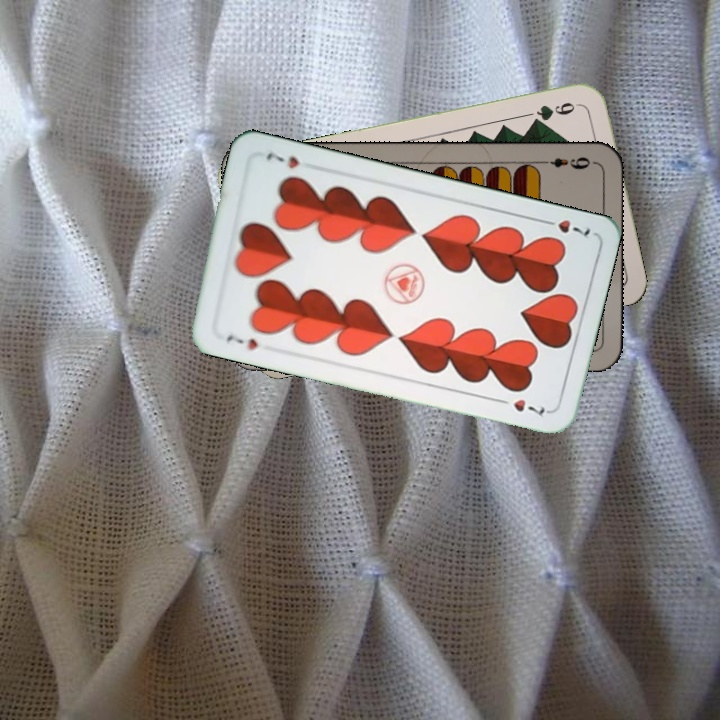E9: (537, 152, 593, 172)
G9: (527, 98, 584, 127)
H7: (537, 215, 593, 239), (222, 330, 261, 352)
